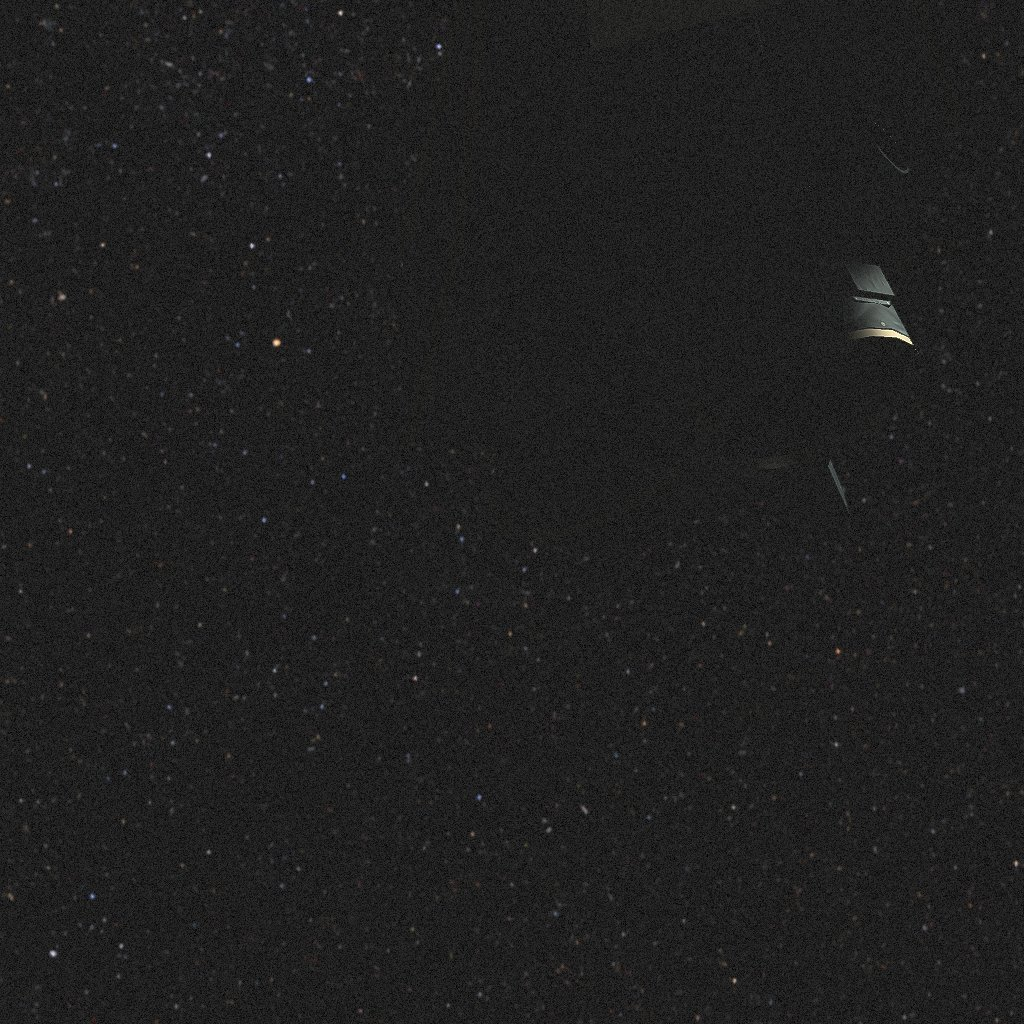cheops: (399, 0, 960, 574)
